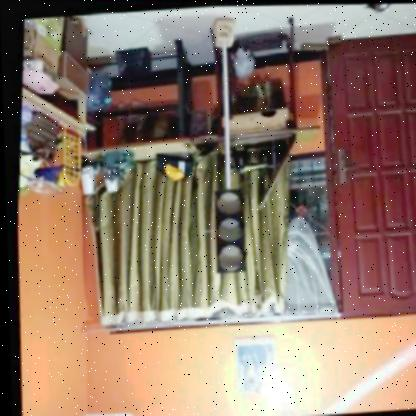Traffic Light -Yellow-: (207, 188, 248, 275)
